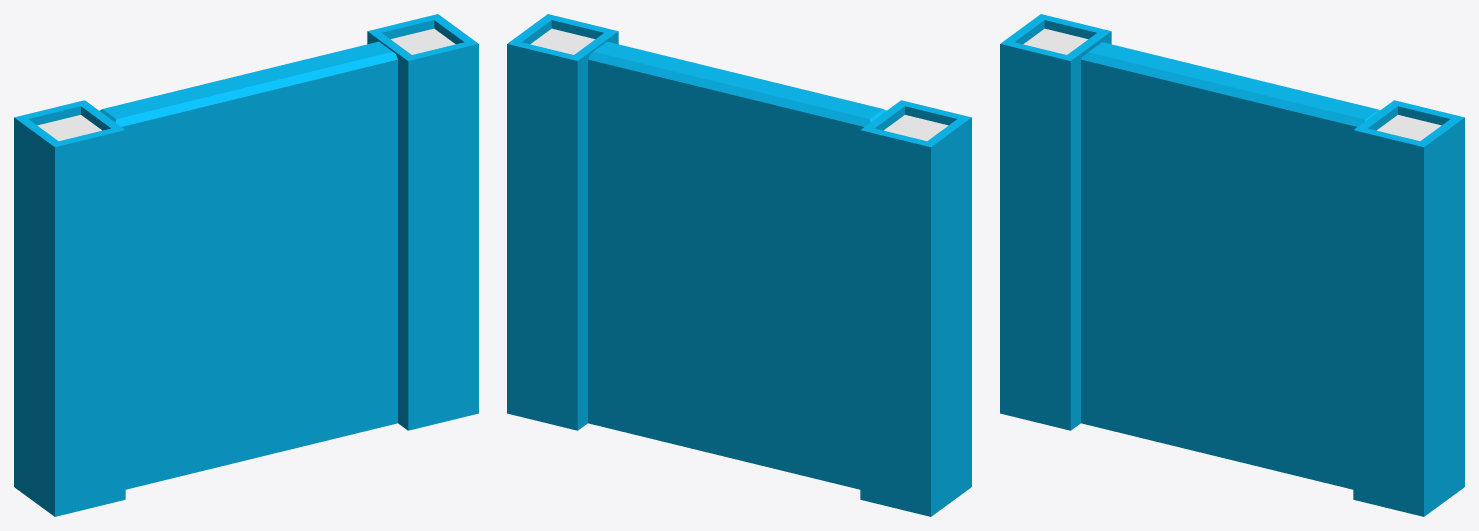
File: wall.fbx
3 renders of one model, left to right at view 1: azimuth 30°, elevation 25°; view 2: azimuth 150°, elevation 25°; view 3: azimuth 330°, elevation 25°, orthographic.
Visible parts, largest first — view 1: Cube; view 2: Cube; view 3: Cube.
Part boxes in pixels (x1,y1,x2,y2): Cube: (14, 14, 478, 516); Cube: (507, 14, 971, 516); Cube: (1000, 14, 1464, 516).
Size of the model in its own units: 1200 by 1000 by 200.
